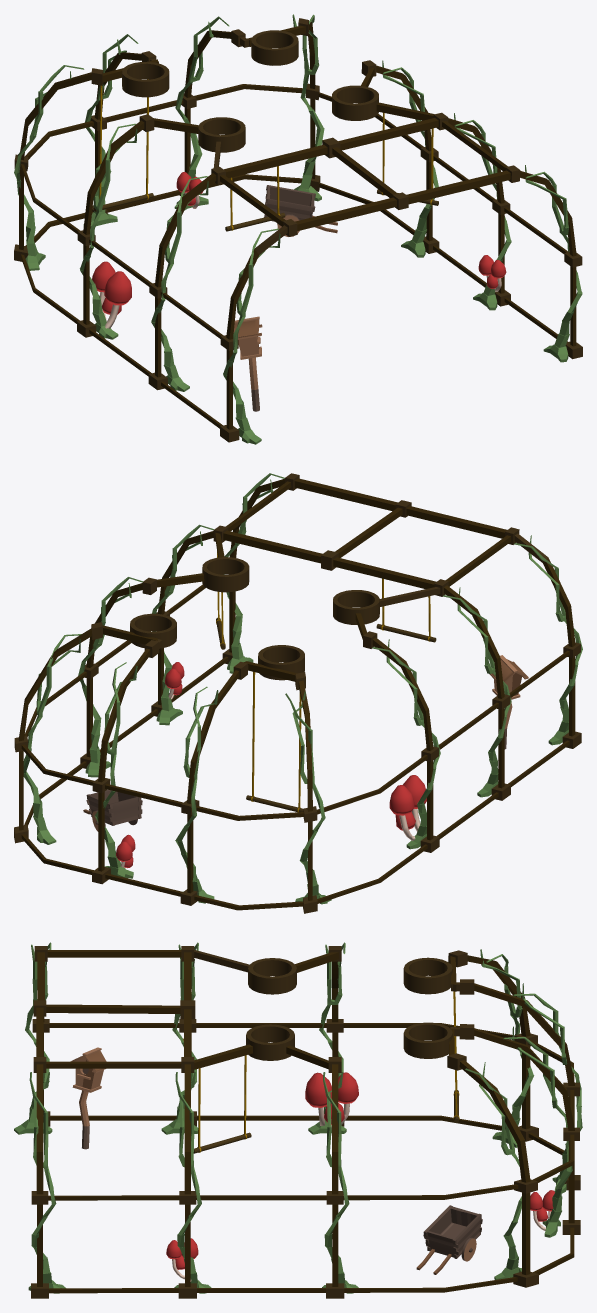
Rendered from vogelkooi.fbx.
The picture shows the model from 3 angles, top to bottom: view 1: azimuth 30°, elevation 25°; view 2: azimuth 150°, elevation 25°; view 3: azimuth 270°, elevation 25°; orthographic projection. The views are drawn at different scales.
Parts seen in each view (by area): view 1: kooooi:test_kooi1:pCube398, pCube7, pCube11, polySurface6001, pCube451, polySurface6019, pCube453, polySurface6038, polySurface6008, pCube452, pCube2, pCylinder3 (+1 smaller); view 2: kooooi:test_kooi1:pCube398, pCube7, pCube11, pCube453, polySurface6008, polySurface6001, polySurface6019, pCube452, pCube2, pCube451, pCylinder3, polySurface6038; view 3: kooooi:test_kooi1:pCube398, pCube7, polySurface6019, pCube11, polySurface6001, pCube451, pCube452, polySurface6008, pCube2, pCube453, polySurface6038, pCylinder2 (+2 smaller).
Part boxes in pixels (box(x1,y1,x2,y2)): kooooi:test_kooi1:pCube398: box(14, 18, 582, 442); pCube7: box(79, 123, 280, 444); pCube11: box(14, 34, 138, 270); polySurface6001: box(92, 261, 131, 328); pCube451: box(525, 165, 582, 362); polySurface6019: box(264, 185, 337, 236); pCube453: box(292, 14, 324, 201); polySurface6038: box(233, 316, 262, 411); polySurface6008: box(174, 16, 229, 210); pCube452: box(382, 60, 438, 257); pCube2: box(454, 113, 511, 310); pCylinder3: box(93, 79, 153, 211); kooooi:test_kooi1:pCube398: box(14, 473, 581, 913); pCube7: box(372, 535, 582, 849); pCube11: box(175, 686, 331, 904); pCube453: box(23, 634, 81, 844); polySurface6008: box(94, 662, 137, 878); polySurface6001: box(389, 775, 426, 840); polySurface6019: box(83, 789, 142, 831); pCube452: box(78, 577, 142, 777); pCube2: box(152, 524, 213, 725); pCube451: box(224, 473, 284, 673); pCylinder3: box(246, 671, 303, 812); polySurface6038: box(489, 655, 528, 749); kooooi:test_kooi1:pCube398: box(31, 946, 580, 1298); pCube7: box(14, 942, 346, 1134); polySurface6019: box(416, 1205, 482, 1274); pCube11: box(480, 949, 582, 1193); polySurface6001: box(305, 1072, 358, 1128); pCube451: box(28, 1072, 65, 1293); pCube452: box(322, 1072, 358, 1293); polySurface6008: box(503, 1026, 572, 1237); pCube2: box(174, 1072, 211, 1293); pCube453: box(465, 1062, 521, 1279); polySurface6038: box(70, 1047, 106, 1149); pCylinder2: box(193, 1055, 251, 1153).
Size of the model in its own units: 8.94 by 4.96 by 12.07.
